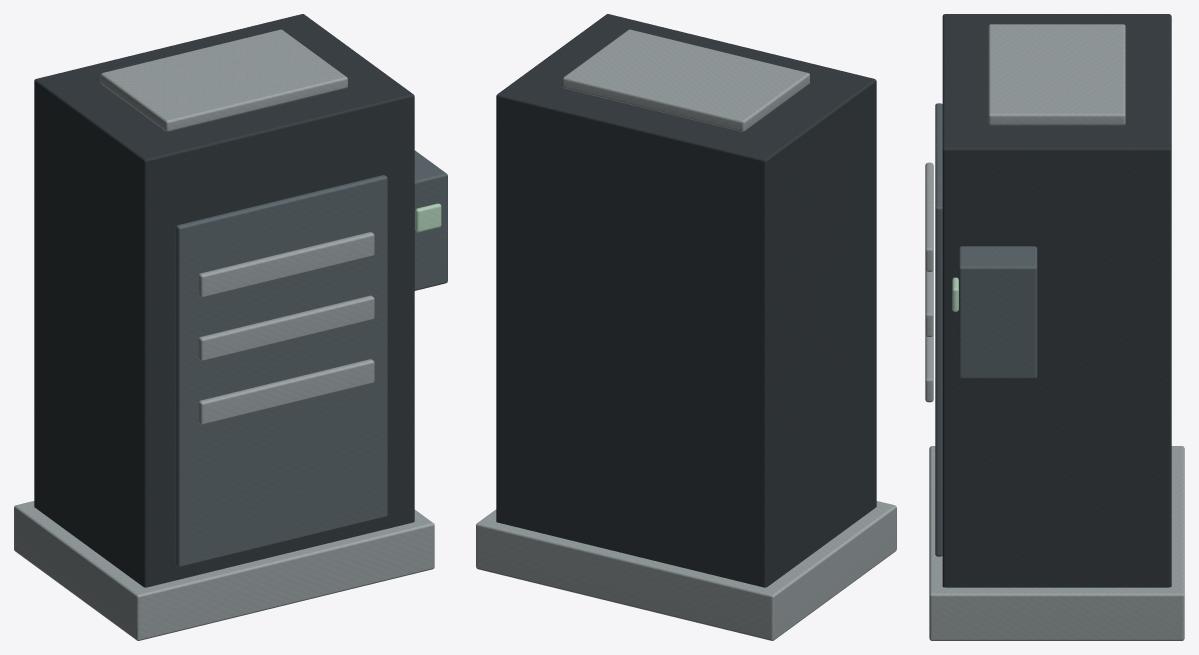
The model's file is AirScrubber.glb.
3 renders of one model, left to right at view 1: azimuth 30°, elevation 25°; view 2: azimuth 150°, elevation 25°; view 3: azimuth 270°, elevation 25°, orthographic. The views are drawn at different scales.
Parts seen in each view (by area): view 1: AirScrubber_Mesh; view 2: AirScrubber_Mesh; view 3: AirScrubber_Mesh.
Boxes of the visible parts, x1=… form: AirScrubber_Mesh: x1=14, y1=14, x2=447, y2=640; AirScrubber_Mesh: x1=476, y1=14, x2=896, y2=640; AirScrubber_Mesh: x1=925, y1=14, x2=1184, y2=640.
Size of the model in its own units: 1.18 by 1.68 by 0.7925.
4 materials, 4 textured.
